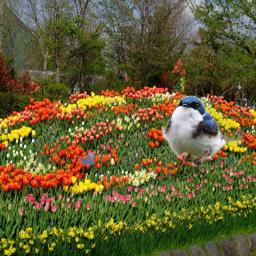Swallow: (161, 95, 243, 167)
